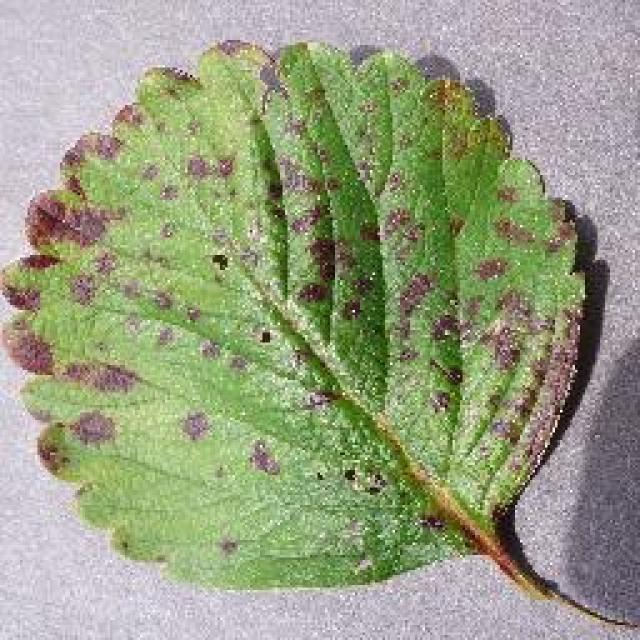Strawberry leaf scorch: (110, 128, 492, 495)
